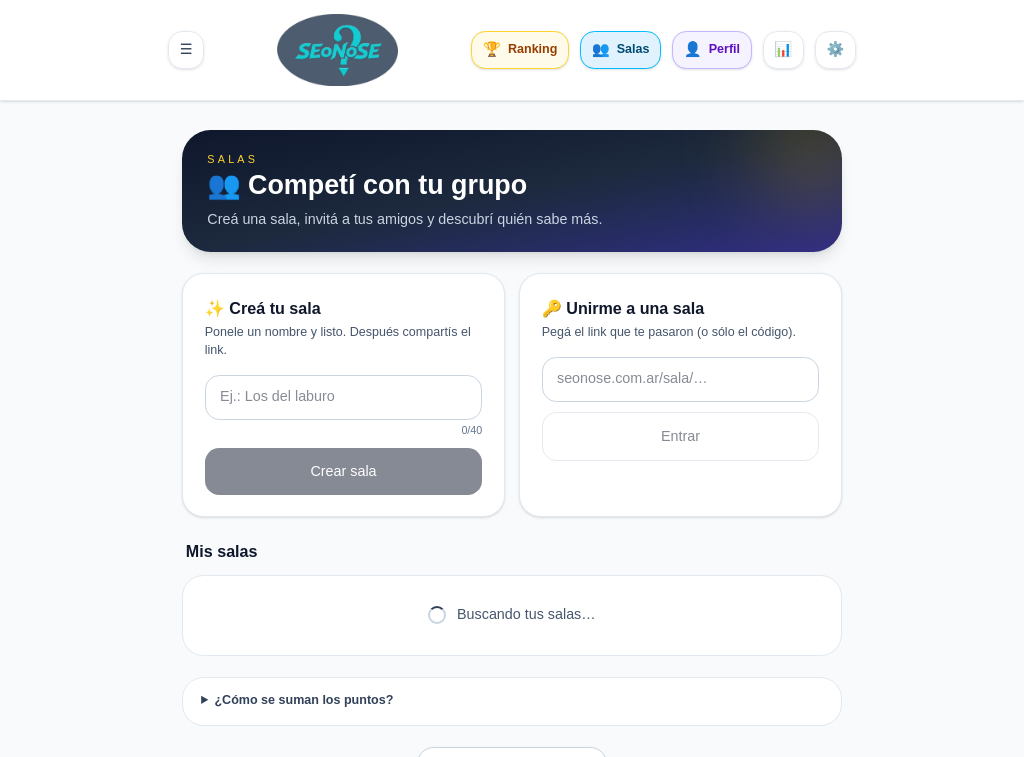
Test case: crear una sala › si falta el alias, lo pide en el momento
Type "Oficina" into the field named "Nombre de la sala". click: {"x": 344, "y": 397}
box: left=205, top=375, right=482, bottom=420
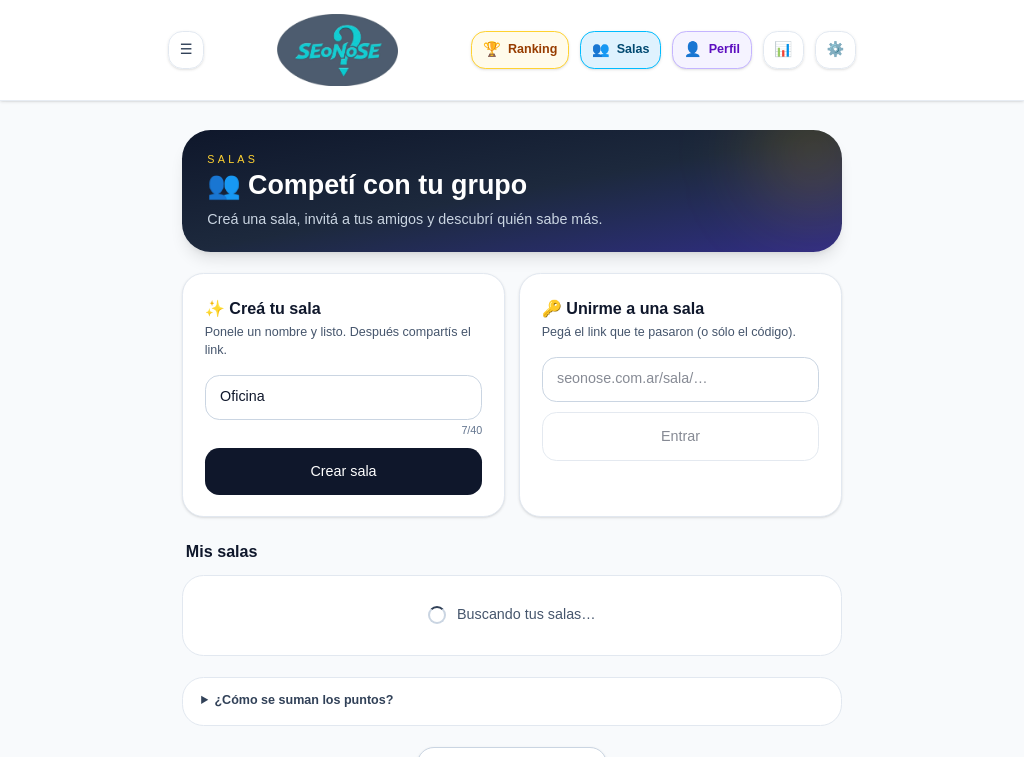
Click the button "Crear sala". click: {"x": 344, "y": 472}
box: left=205, top=448, right=482, bottom=495
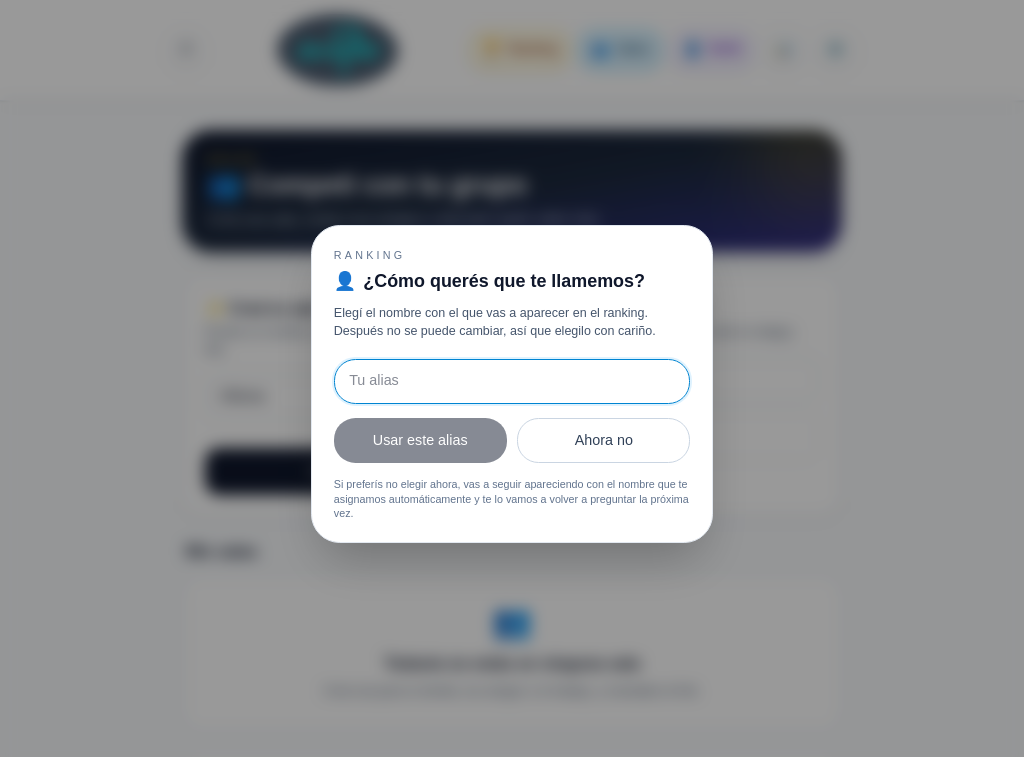
Result: the text "¿Cómo querés que te llamemos?" is shown at left=363, top=269, right=645, bottom=294
